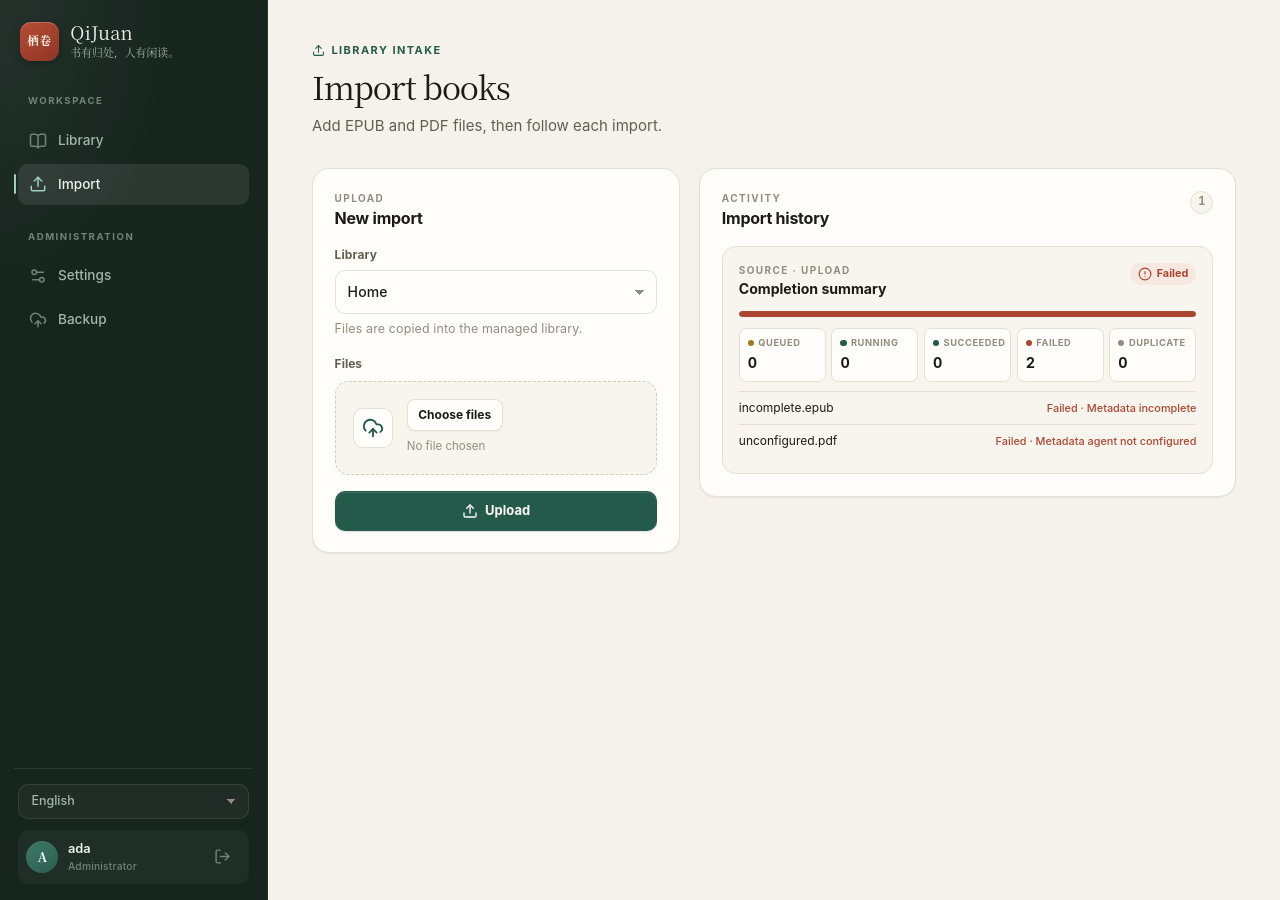
Test: import screen › shows metadata agent failures on each item in English and Simplified Chinese
Expected: the text "Failed · Metadata incomplete" is shown, [1047, 400, 1196, 417]
Expected: the text "Failed · Metadata agent not configured" is shown, [996, 433, 1196, 450]
Select "简体中文" in the dropdown named "Language" at (134, 801), box [18, 784, 249, 819]
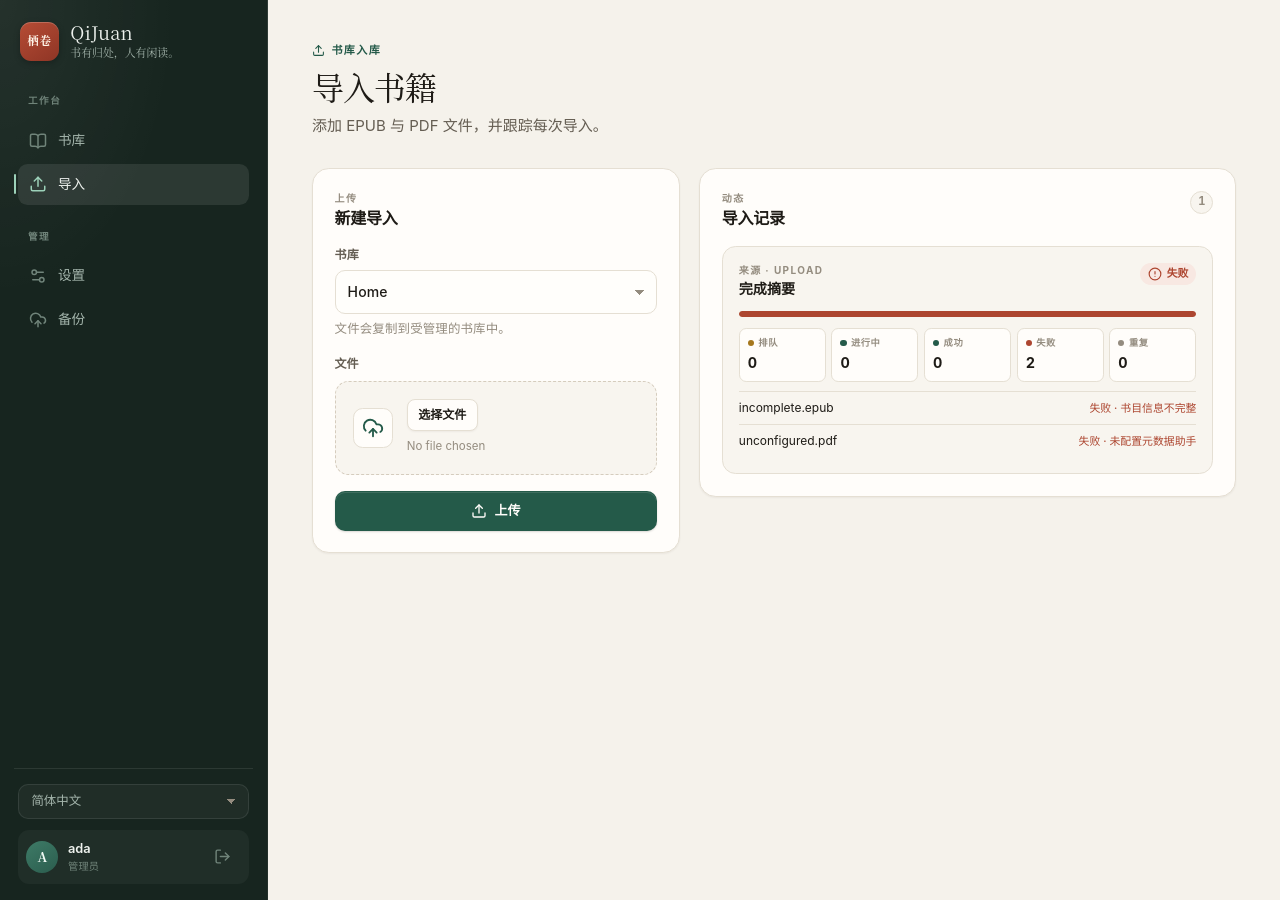
Expected: the text "失败 · 书目信息不完整" is shown, [1089, 400, 1196, 417]
Expected: the text "失败 · 未配置元数据助手" is shown, [1078, 433, 1196, 450]
